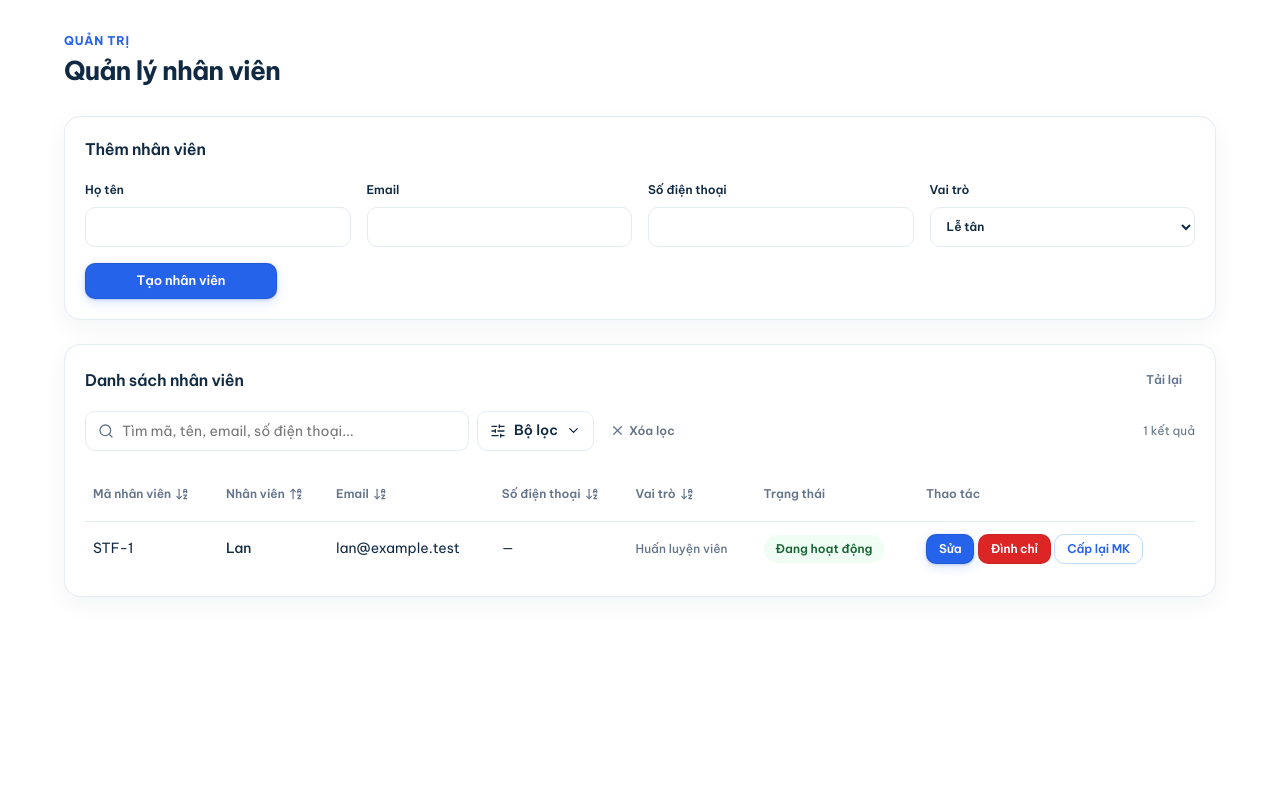
Test: StaffPage › lets Admin confirm a one-time staff credential reset
Expected: the text "STF-1" is shown, [93,539,134,557]
Click the button "Cấp lại MK" at (1099,549), box [1054,534,1143,564]
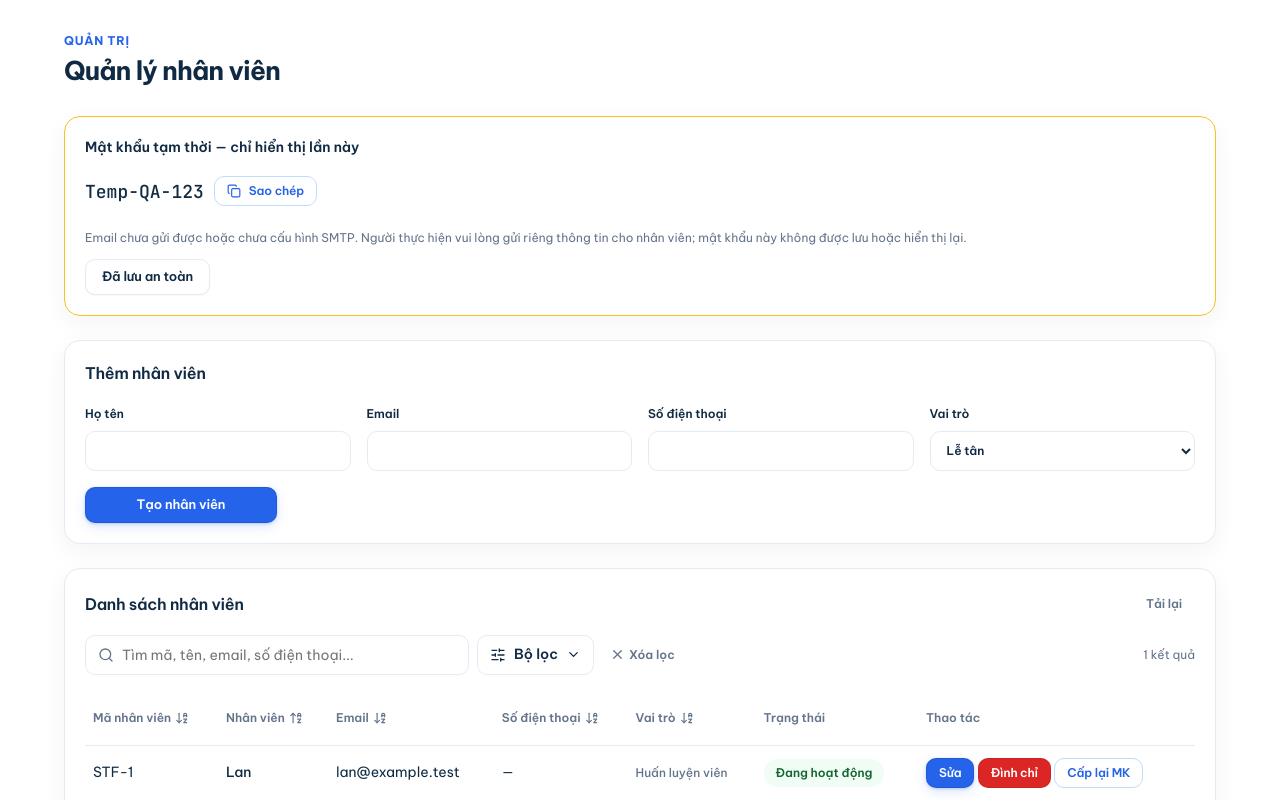
Now the text "Temp-QA-123" is shown, box [85,178,204,205]
